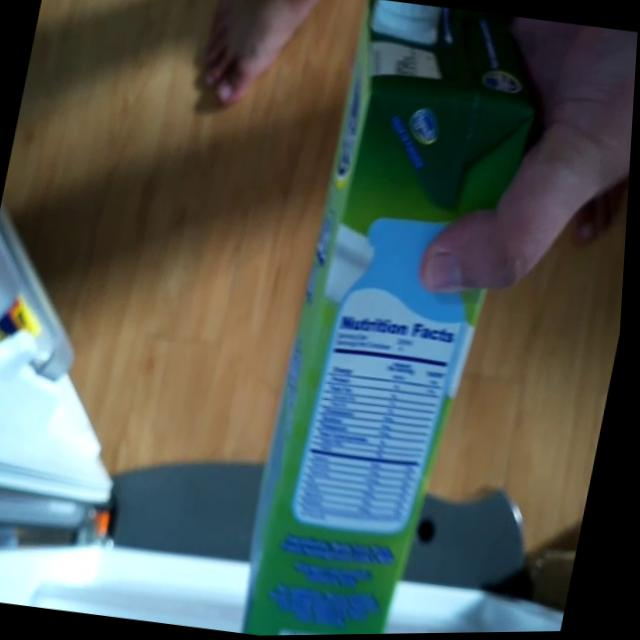milk: (233, 0, 549, 637)
